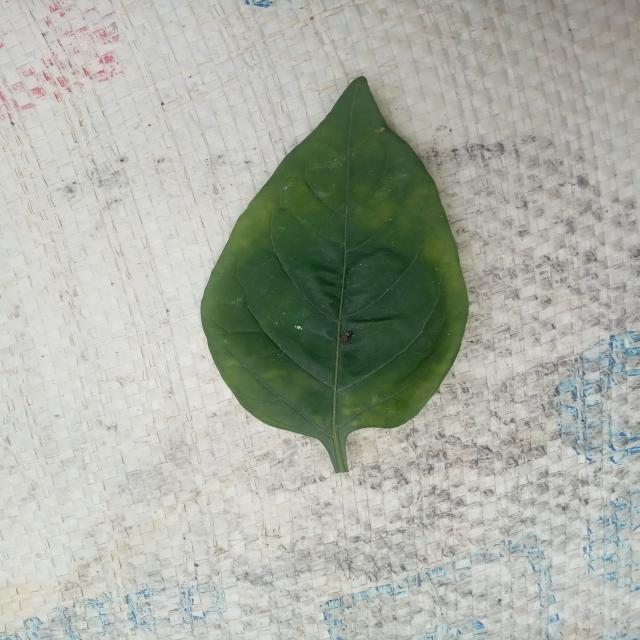ganike: (202, 78, 468, 472)
